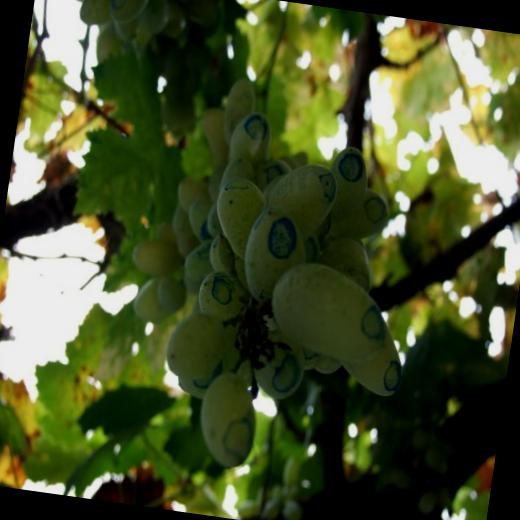Orange: (105, 68, 438, 488), (46, 0, 222, 80), (389, 422, 451, 518), (236, 450, 307, 520)
